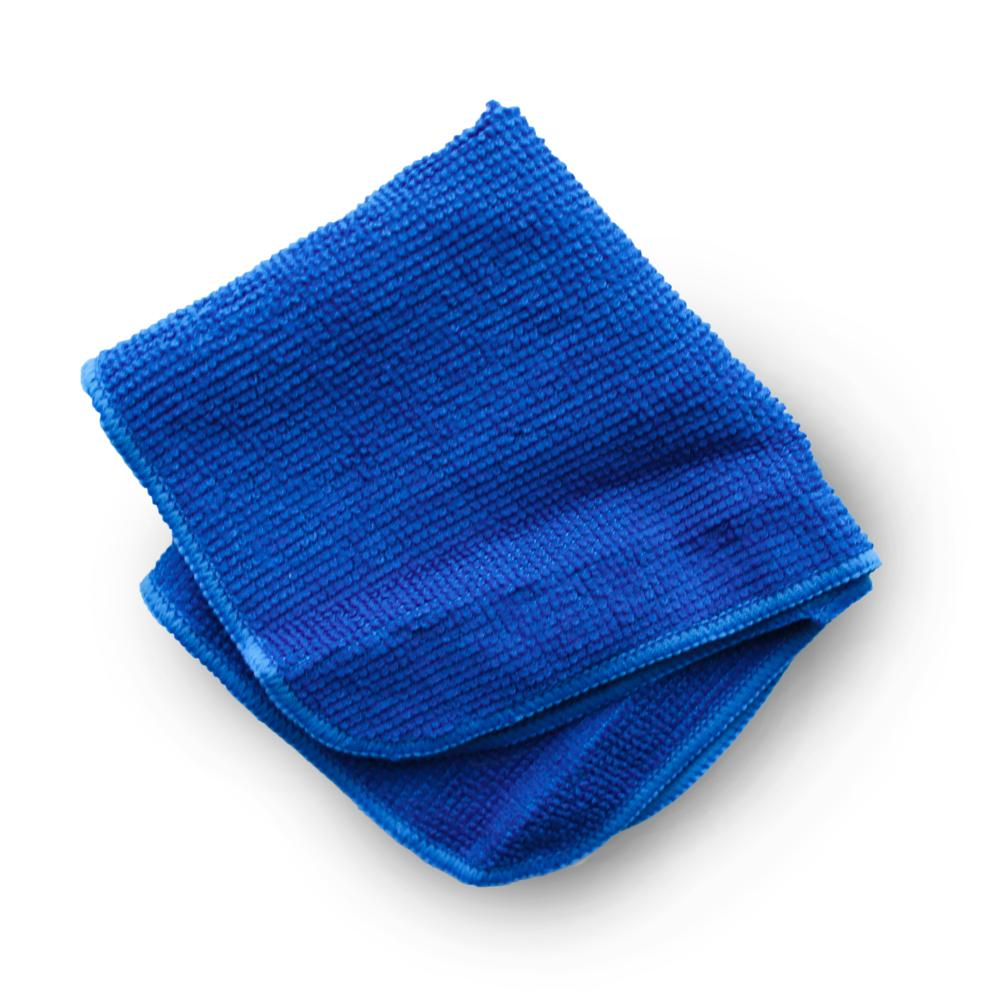Towel: (73, 90, 898, 905)
